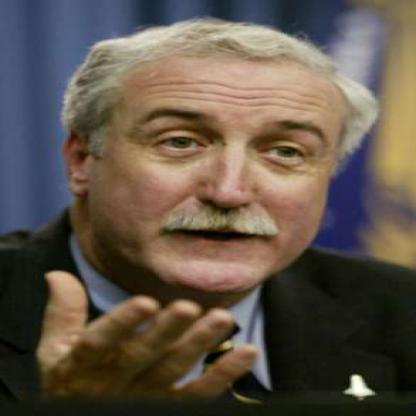face: (91, 31, 355, 296)
